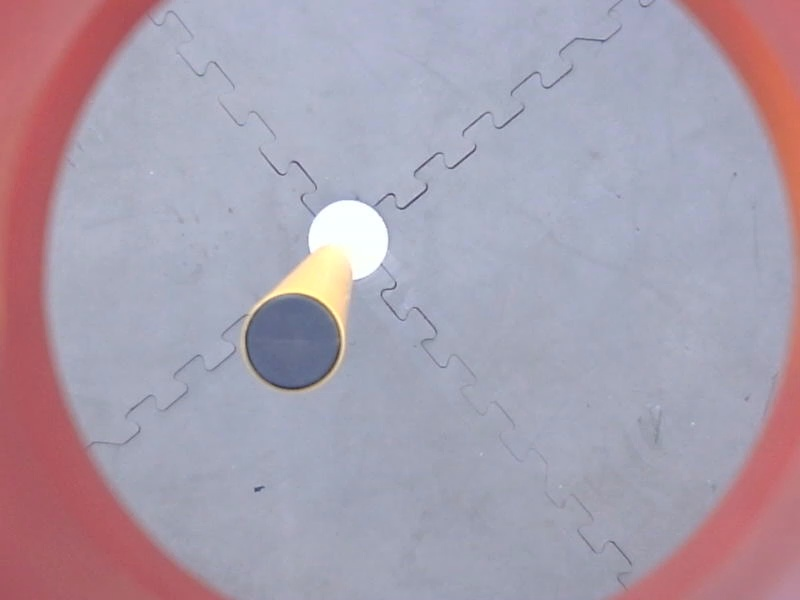tip: (234, 287, 357, 400)
